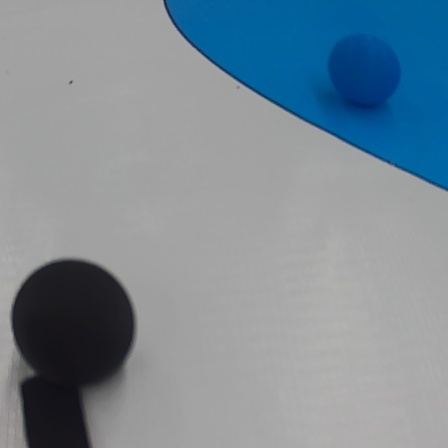black: (14, 251, 140, 393)
blue: (325, 33, 411, 109)
blue_base: (166, 0, 447, 195)
